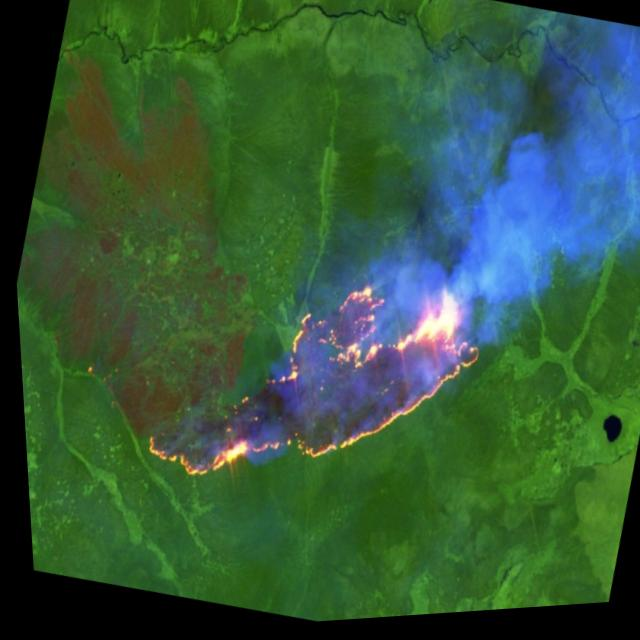fire: (121, 204, 508, 556)
